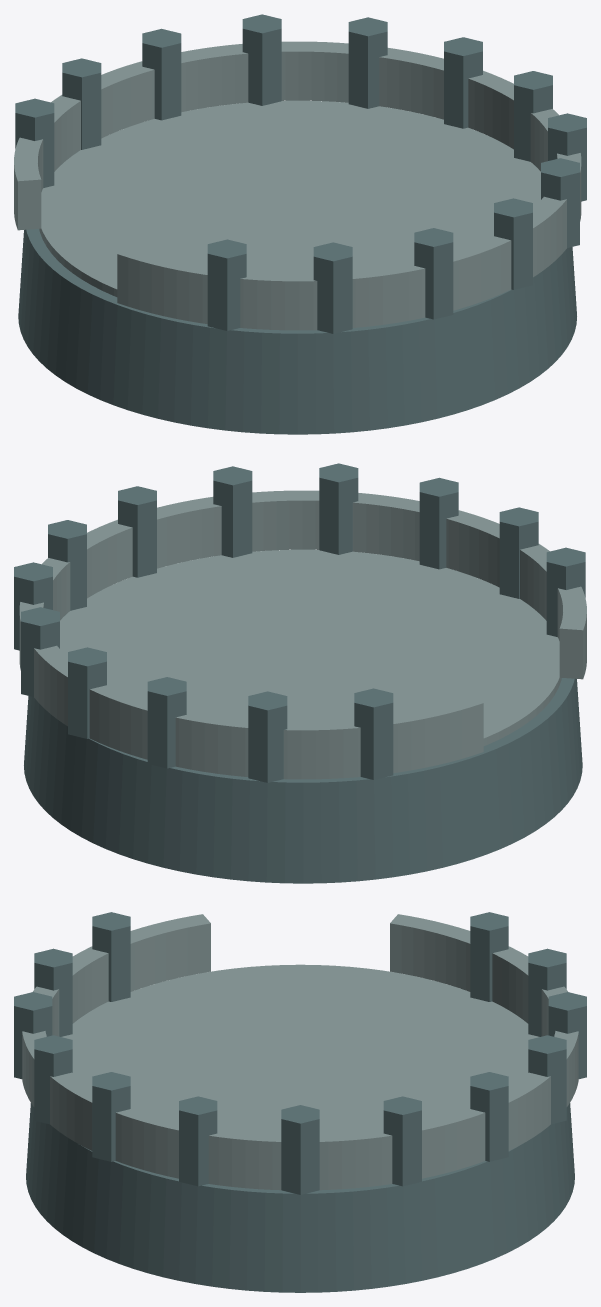
The model's file is SM_R02A_TeamB_Lobby.fbx.
The picture shows the model from 3 angles, top to bottom: view 1: azimuth 30°, elevation 25°; view 2: azimuth 150°, elevation 25°; view 3: azimuth 270°, elevation 25°; orthographic projection.
Visible parts, largest first — view 1: SM_R02A_TeamB_Lobby; view 2: SM_R02A_TeamB_Lobby; view 3: SM_R02A_TeamB_Lobby.
Boxes of the visible parts, left/top/right/bottom form: SM_R02A_TeamB_Lobby: left=14, top=14, right=586, bottom=434; SM_R02A_TeamB_Lobby: left=14, top=463, right=586, bottom=883; SM_R02A_TeamB_Lobby: left=14, top=912, right=586, bottom=1292.
Bounding box in the file's own units: 13.25 × 13.46 × 4.55.
